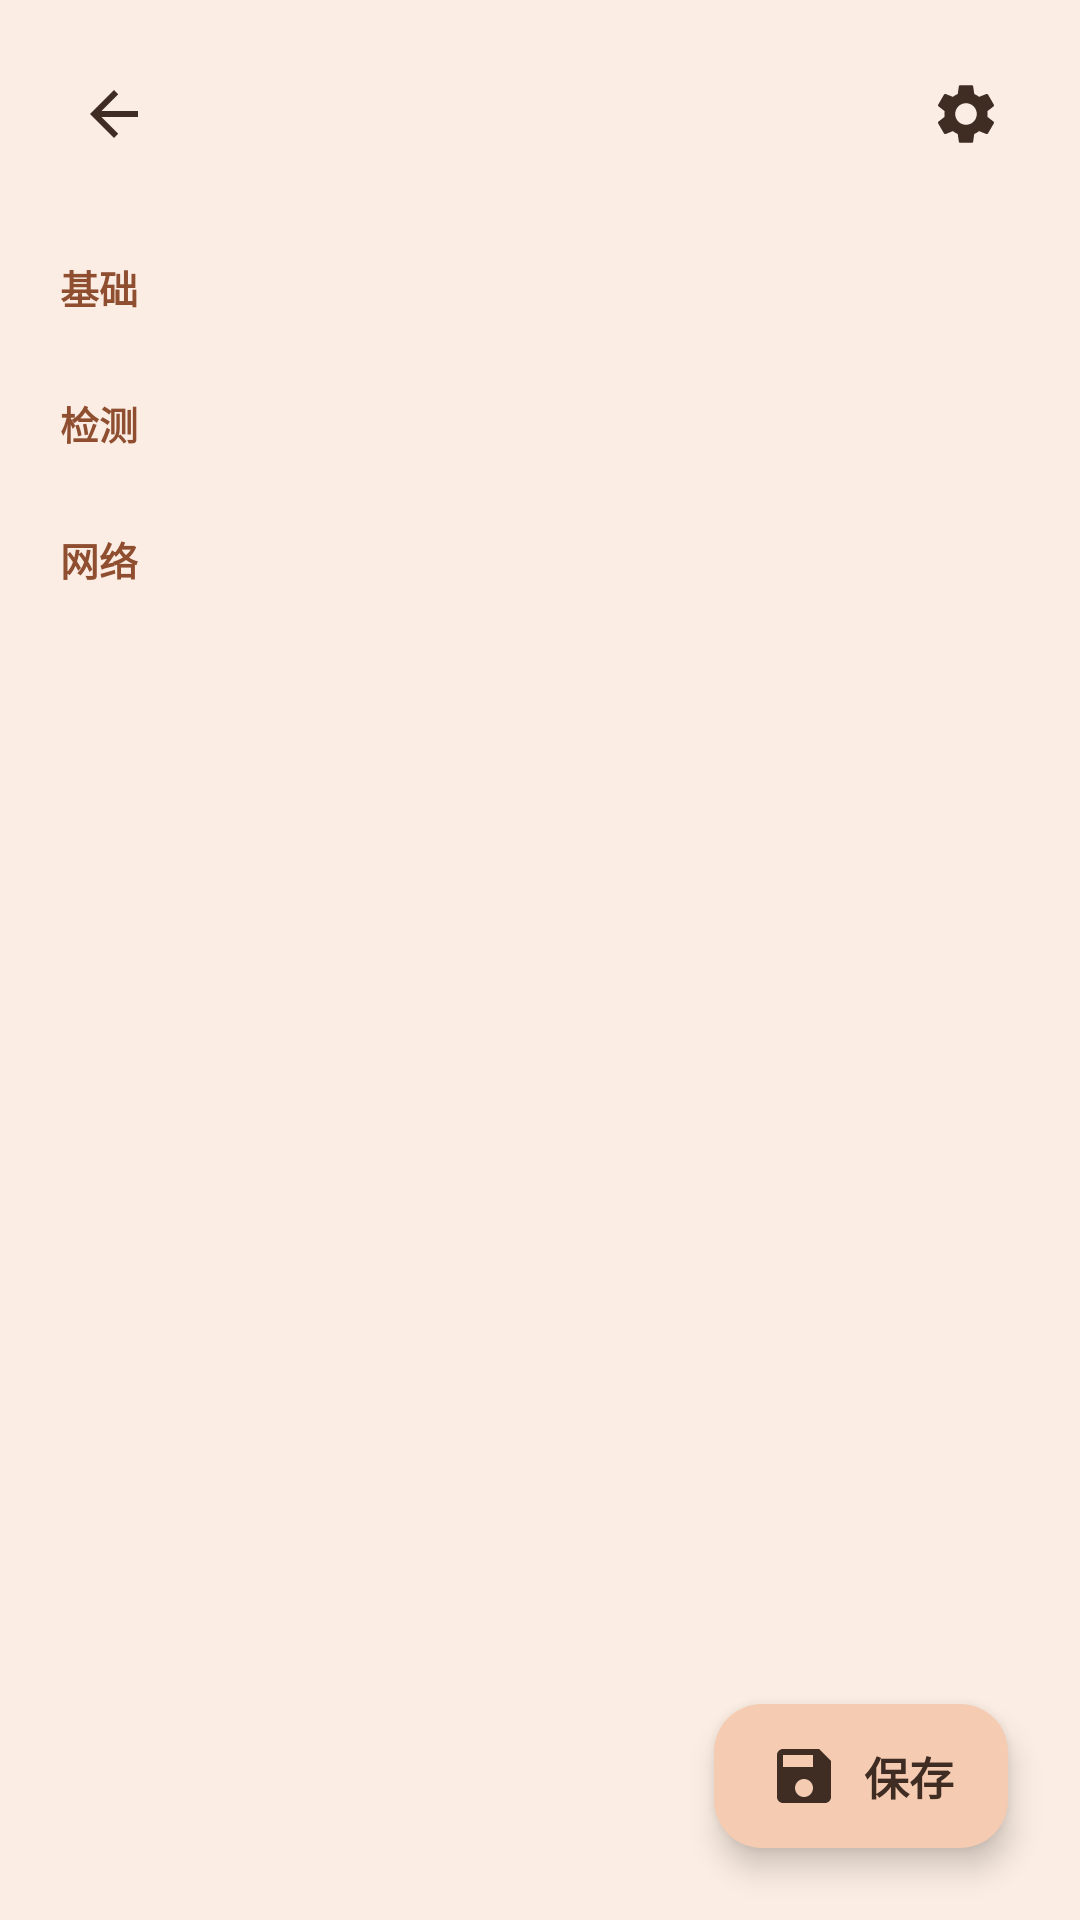

Named icons in this screenshot (1080 × 1920) and their centers, (x=x, y=y):
back: (x=114, y=114)
settings: (x=966, y=114)
